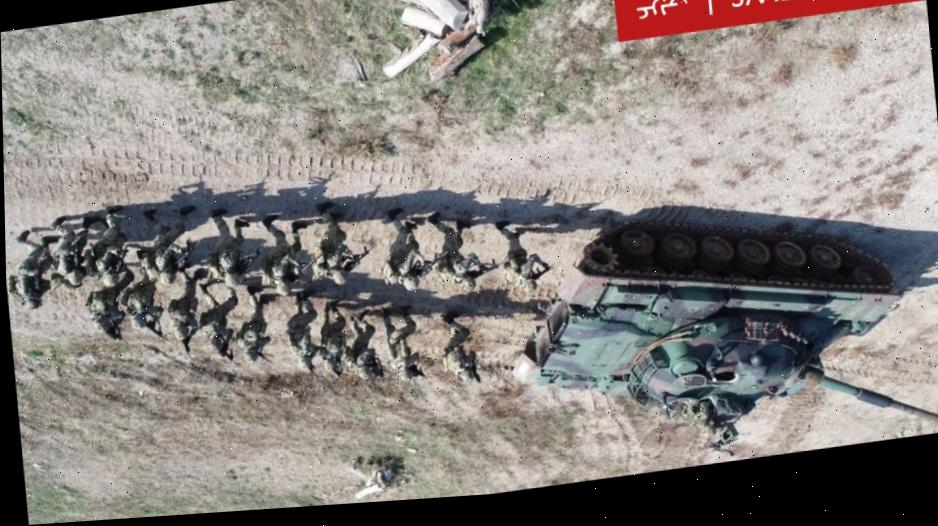tank: (497, 177, 938, 490)
